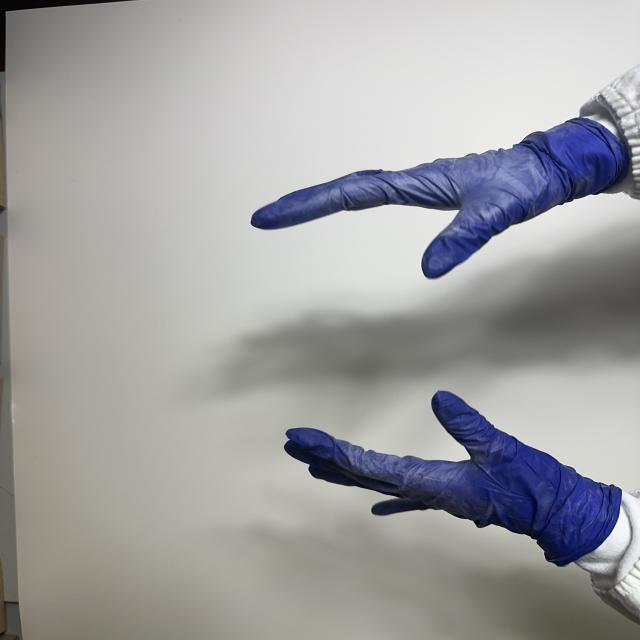gloves_contaminated: (252, 118, 630, 278), (285, 391, 621, 566)
